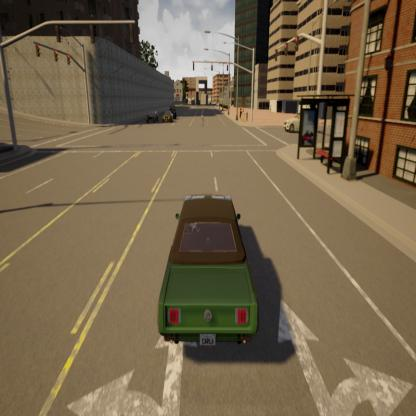Cars: (133, 191, 264, 362), (274, 110, 329, 138), (166, 101, 178, 120), (146, 108, 160, 124), (161, 109, 176, 123)
Pedestrian: (198, 106, 207, 126), (242, 103, 247, 122), (238, 103, 243, 122)
